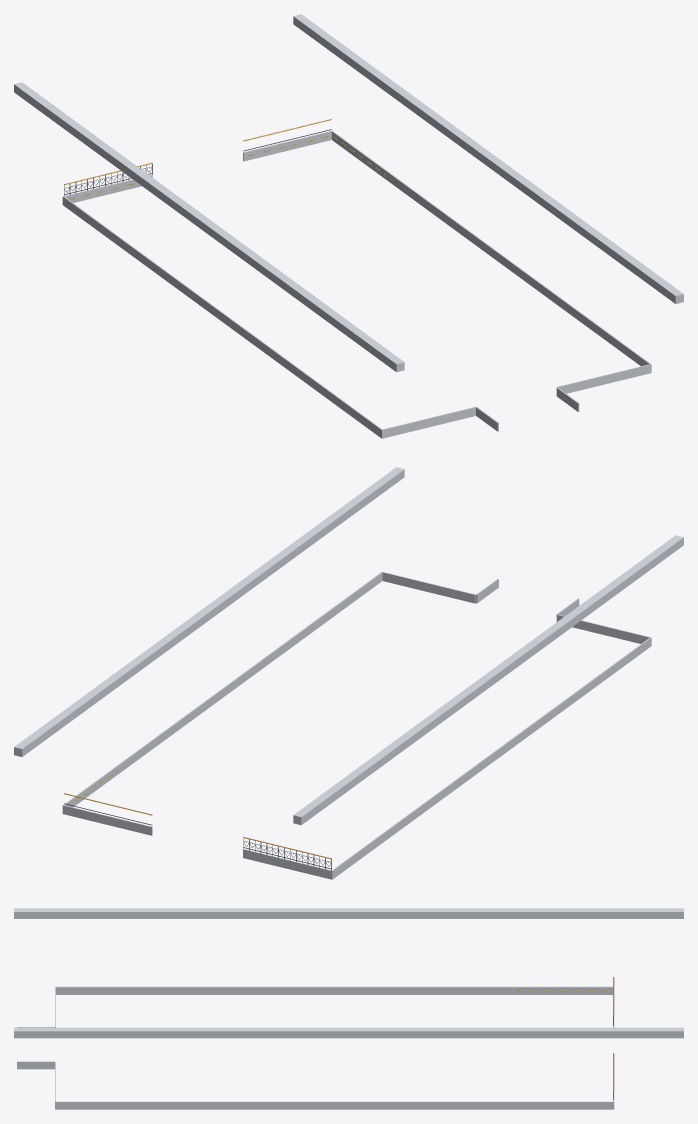
The model's file is KRM_STATIC_030.fbx.
3 renders of one model, top to bottom at view 1: azimuth 30°, elevation 25°; view 2: azimuth 150°, elevation 25°; view 3: azimuth 270°, elevation 25°, orthographic. The views are drawn at different scales.
Visible parts, largest first — view 1: KRM_STATIC_030; view 2: KRM_STATIC_030; view 3: KRM_STATIC_030.
Part boxes in pixels (bbox=[...]): KRM_STATIC_030: bbox=[14, 14, 683, 438]; KRM_STATIC_030: bbox=[14, 467, 683, 879]; KRM_STATIC_030: bbox=[14, 908, 683, 1109].
Size of the model in its own units: 2430 by 758 by 5600.
1 material, 1 textured.
